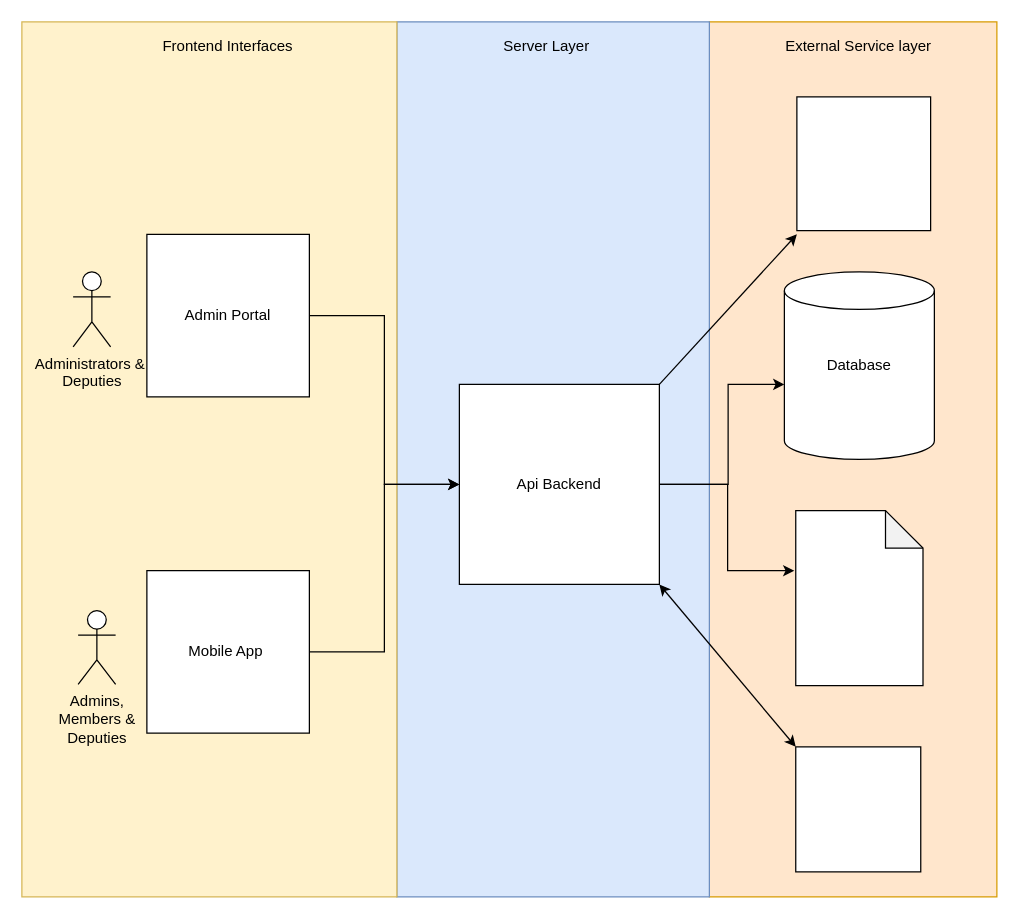
Image size: 1019x919. Some labels were removed from this diagram. The box of each missing label's shape, as (x1, y1, x2, y2) in pixels:
Email SMTP Service: (796, 96, 931, 231)
Object store: (794, 509, 923, 686)
Plugin Controller: (794, 746, 921, 872)
